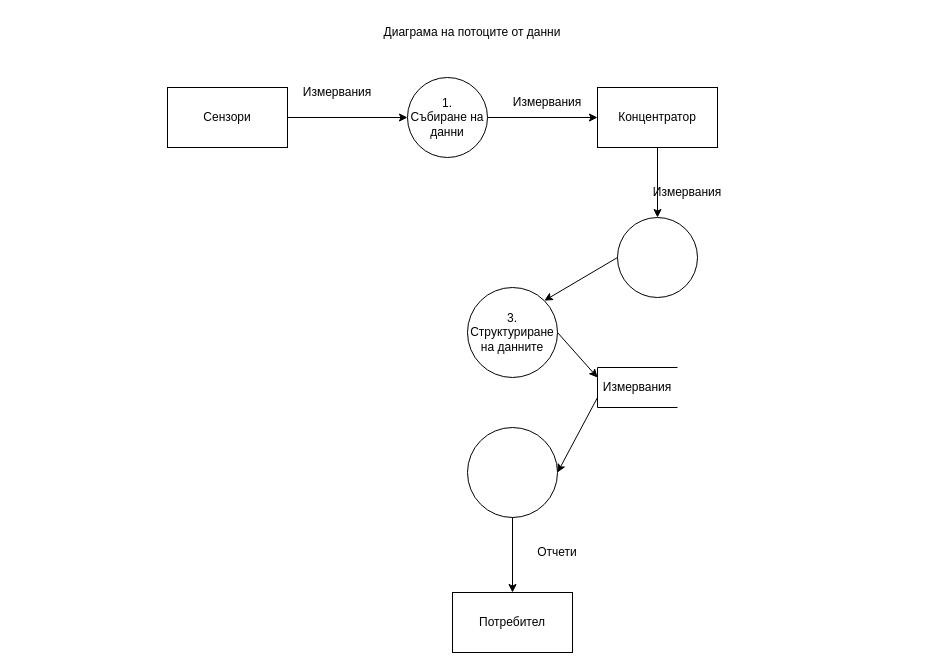
This 944x670 diagram has some shape labels left out. The shapes that lost their labels are listed below. From the top down, each one's centre as x and y in pixels, then its label:
the point at 657,257: 2. Валидация
the point at 512,472: 4. Визуализация
